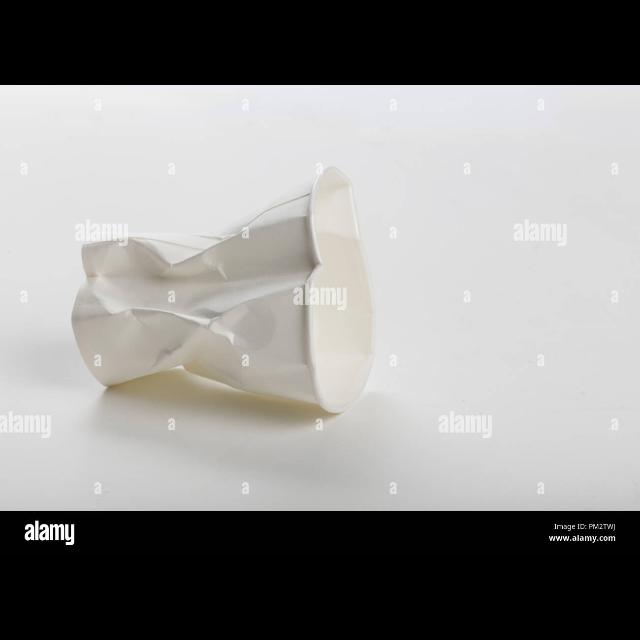trash: (73, 163, 379, 414)
